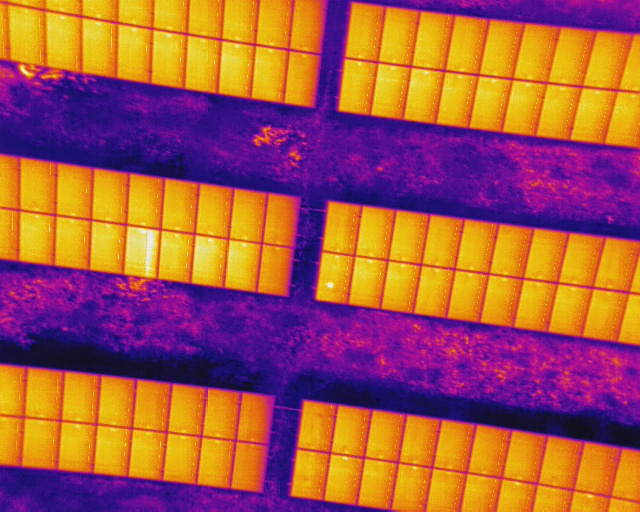spot: (315, 252, 351, 307), (620, 0, 639, 25), (620, 500, 639, 511)
stripe: (124, 225, 161, 279)
